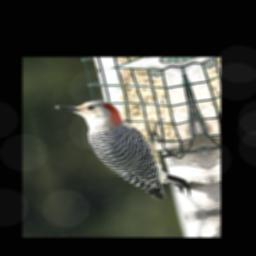Woodpecker: (54, 88, 192, 214)
